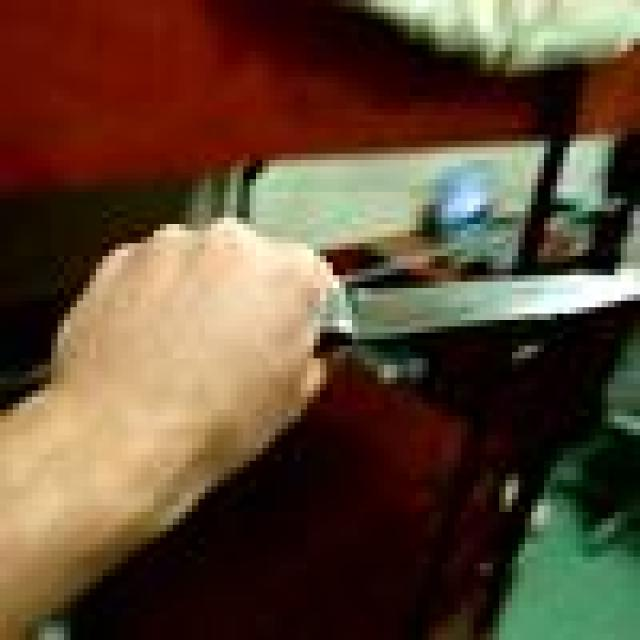knife: (339, 278, 640, 332)
